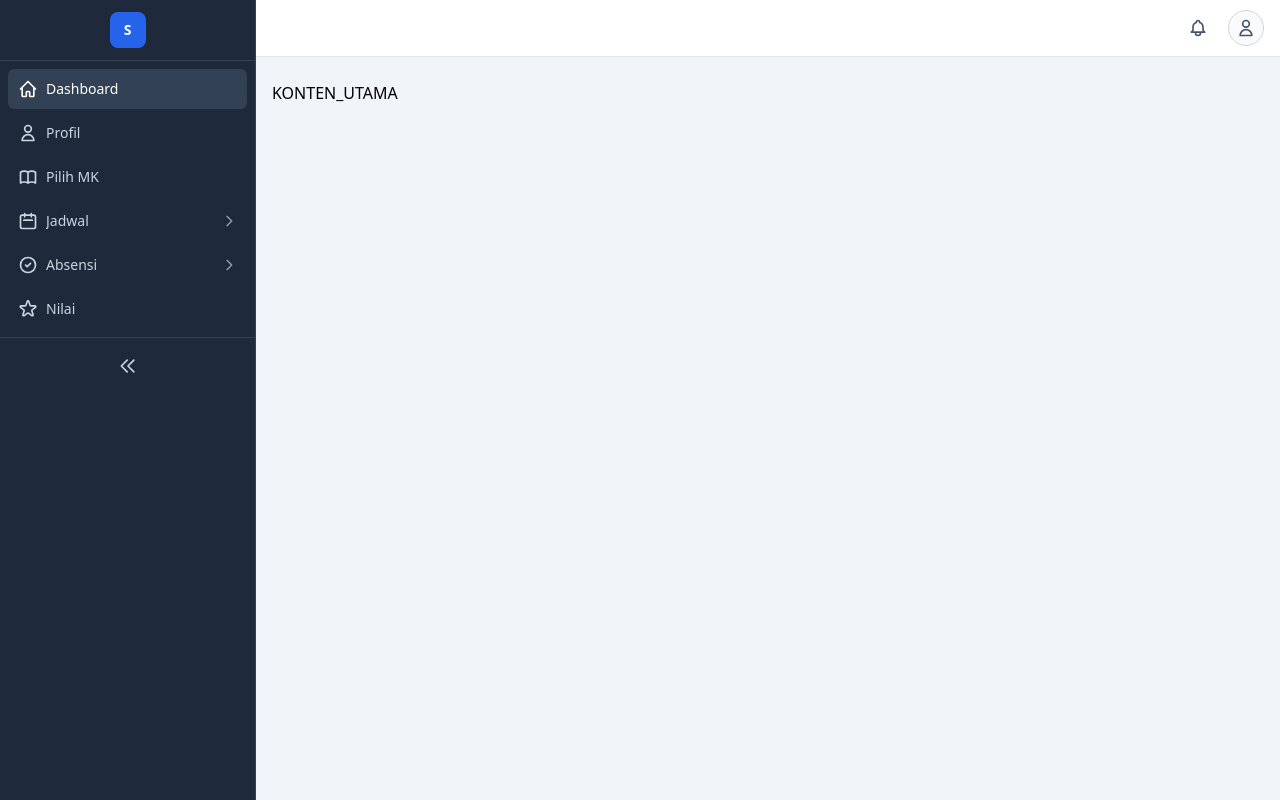
Test: AppLayout (T1.11d polish + keluhan #5 sidebar ikon & #26 dropdown avatar) › keluhan #26 — tanpa permission user.edit_contact (dosen) → Edit Profil tidak tampil
This screenshot has width=1280, height=800.
Click the button named "Menu pengguna": (1246, 28) [1228,10,1264,46]
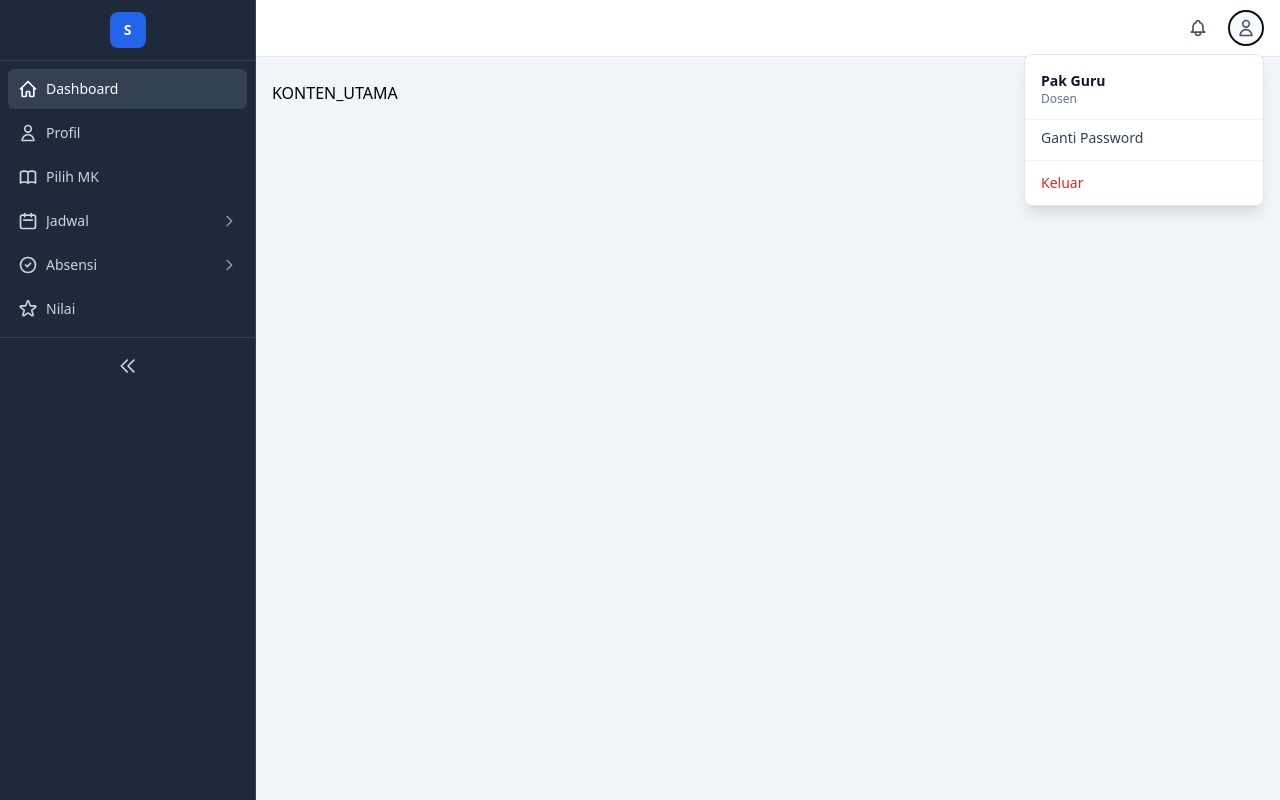
Now the menu is shown, box [1024,54,1264,206]
Now the menu item "Ganti Password" is shown, box [1041,128,1143,147]
